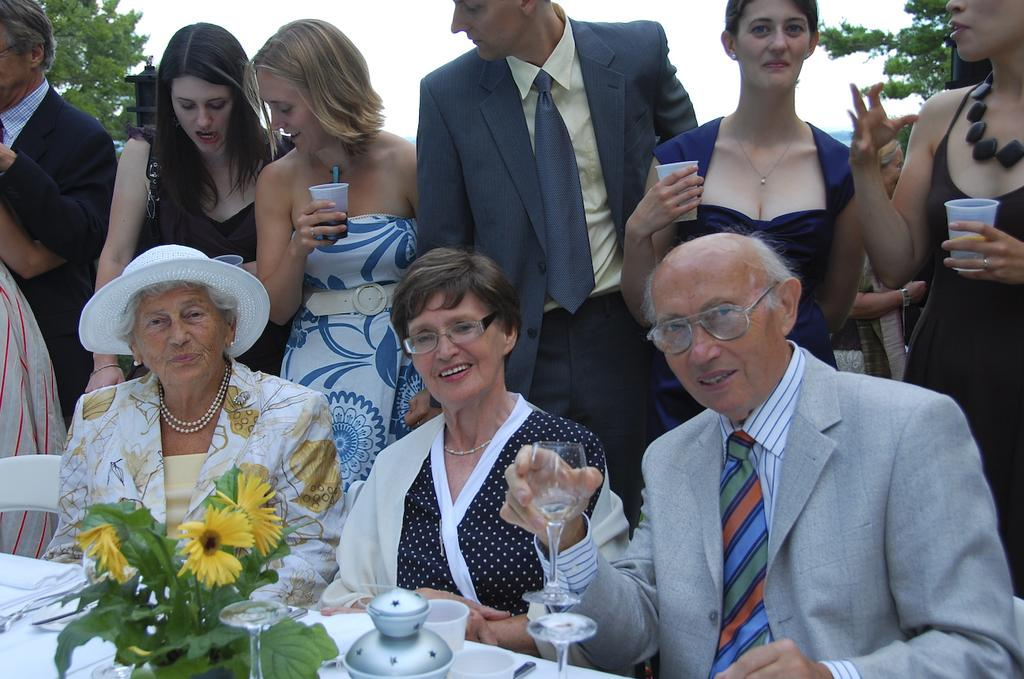Hat: (80, 243, 274, 365)
